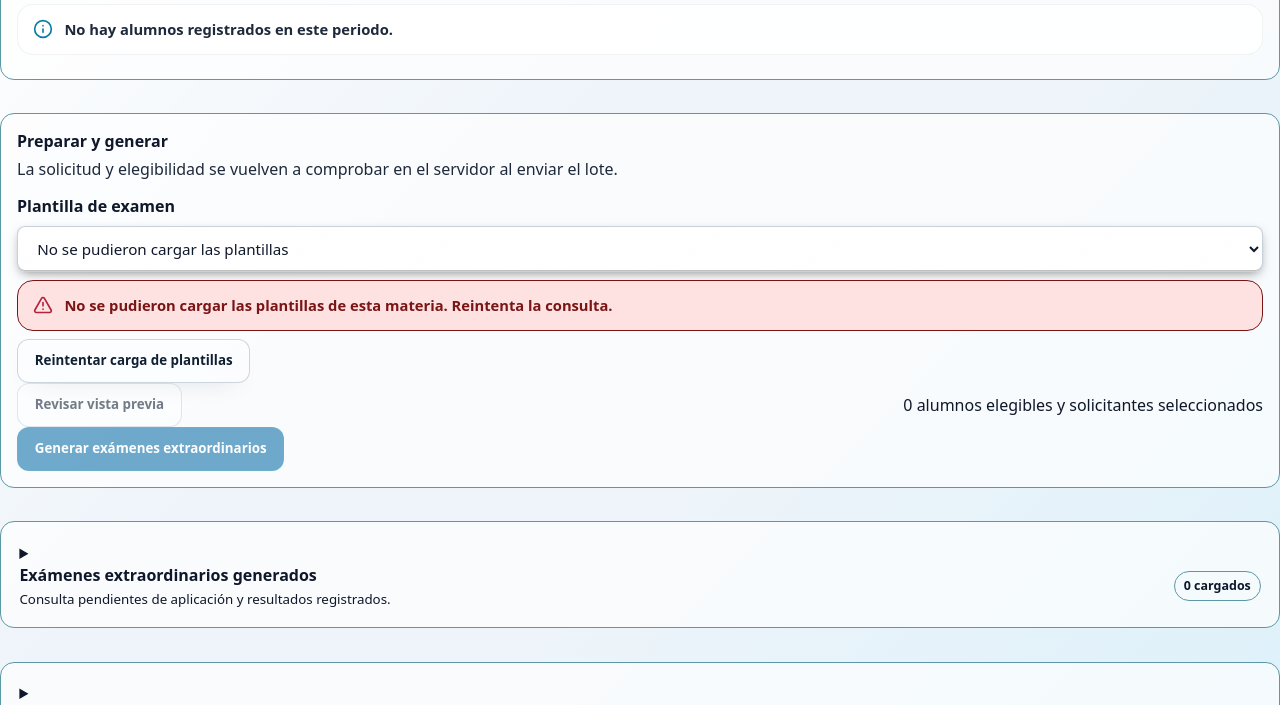
Test: ExtraordinariosCalificaciones › permite reintentar la carga de plantillas tras un error recuperable
(page scrolled)
expect the text "No se pudieron cargar las plantillas de esta materia. Reintenta la consulta." is shown: met, box [64, 295, 612, 315]
What coordinates should you click on to do the following:
click the button "Reintentar carga de plantillas"
I would click on:
 (134, 361)
Its box is [17, 339, 250, 383].
(page scrolled)
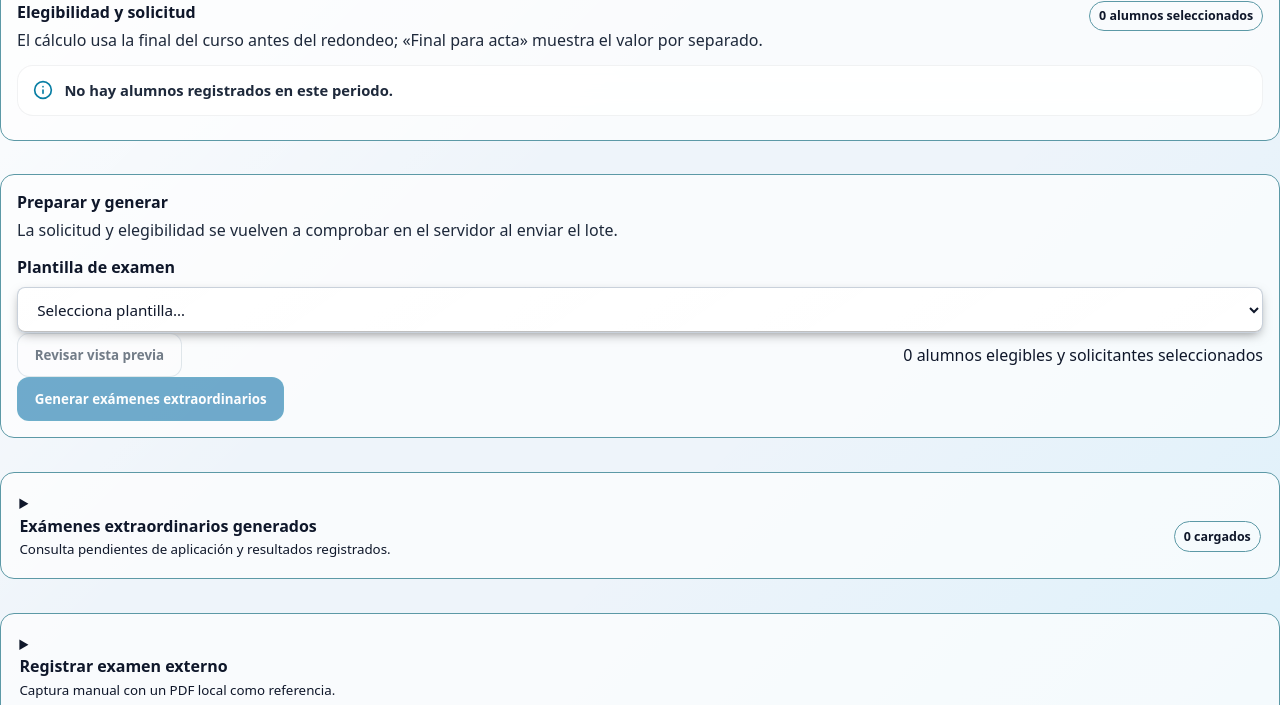
expect the text "No se pudieron cargar las plantillas de esta materia. Reintenta la consulta." is gone: met
